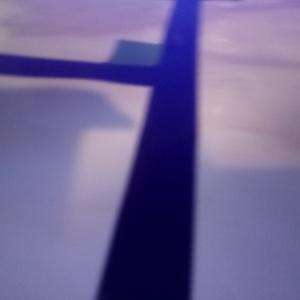top_left: (109, 39, 196, 81)
